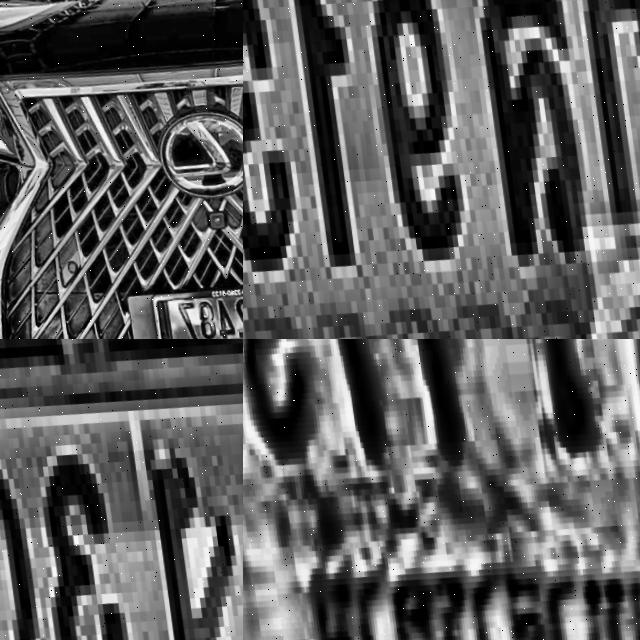license-plate: (243, 0, 640, 339), (243, 339, 640, 640), (0, 339, 243, 640), (150, 270, 243, 339)
